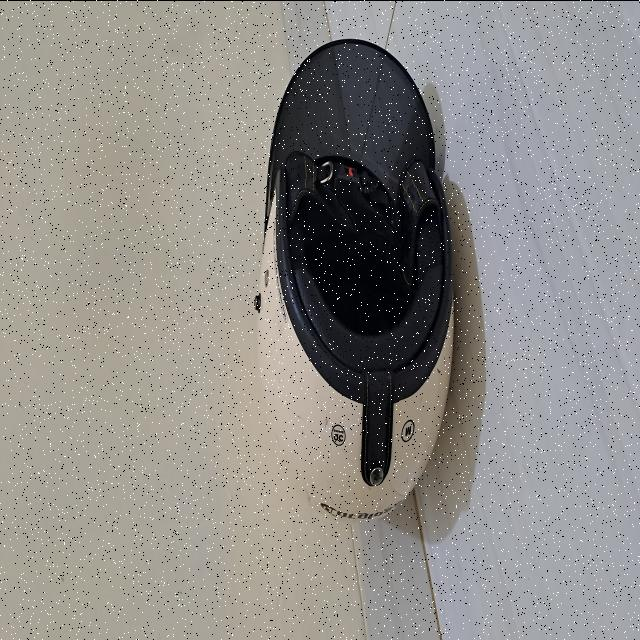Helmet: (255, 37, 457, 521)
